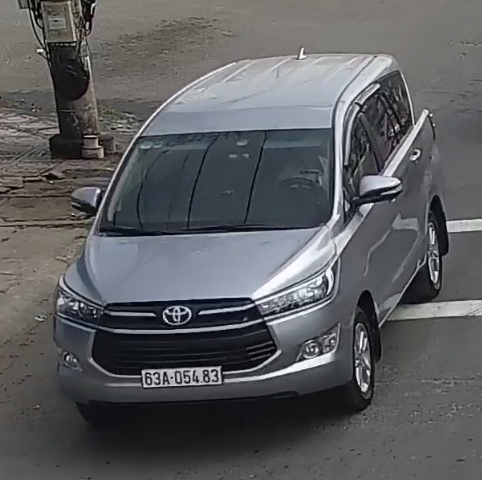vehicle plate: (134, 363, 228, 387)
